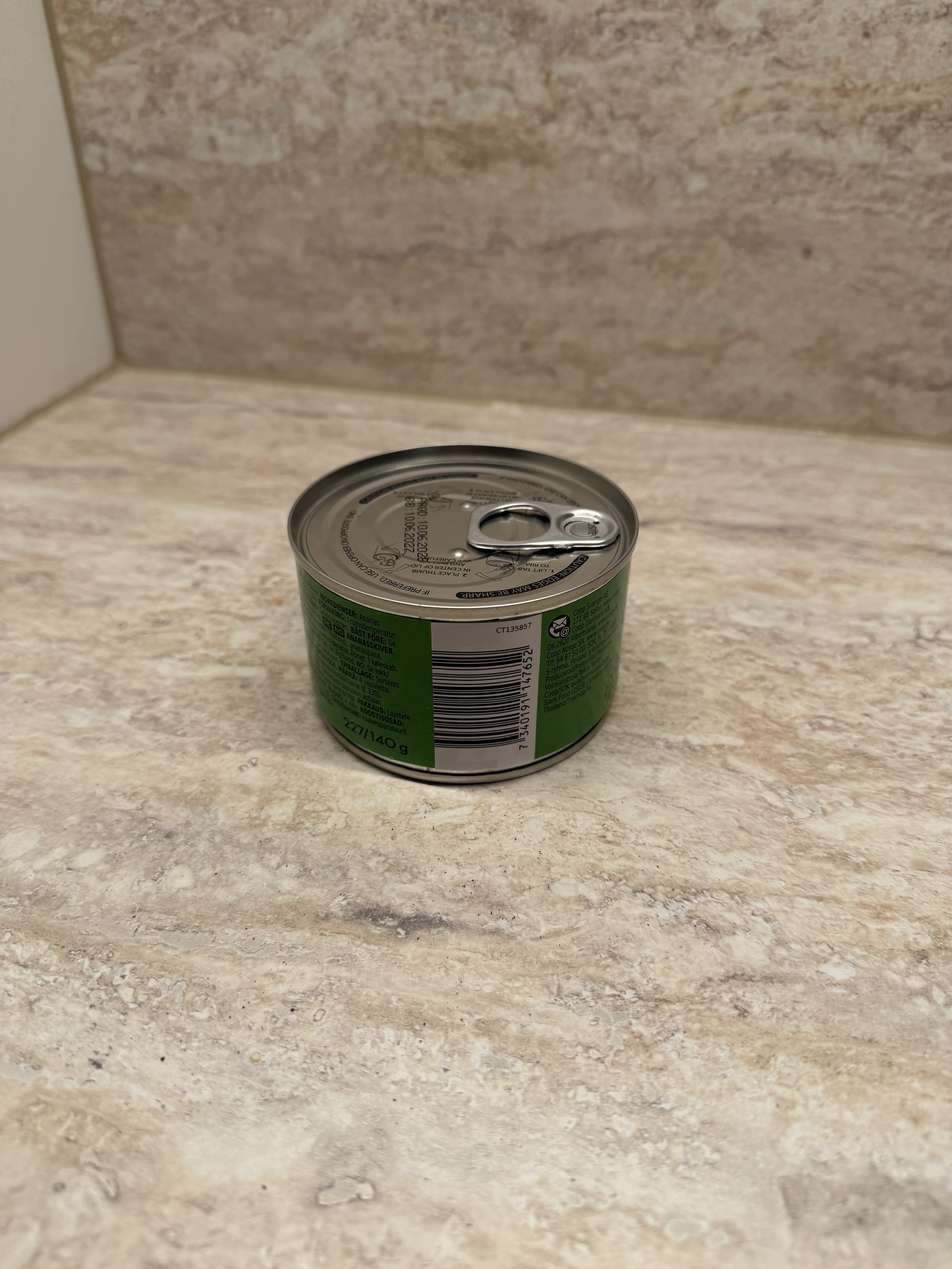Konservburk: (260, 418, 663, 799)
